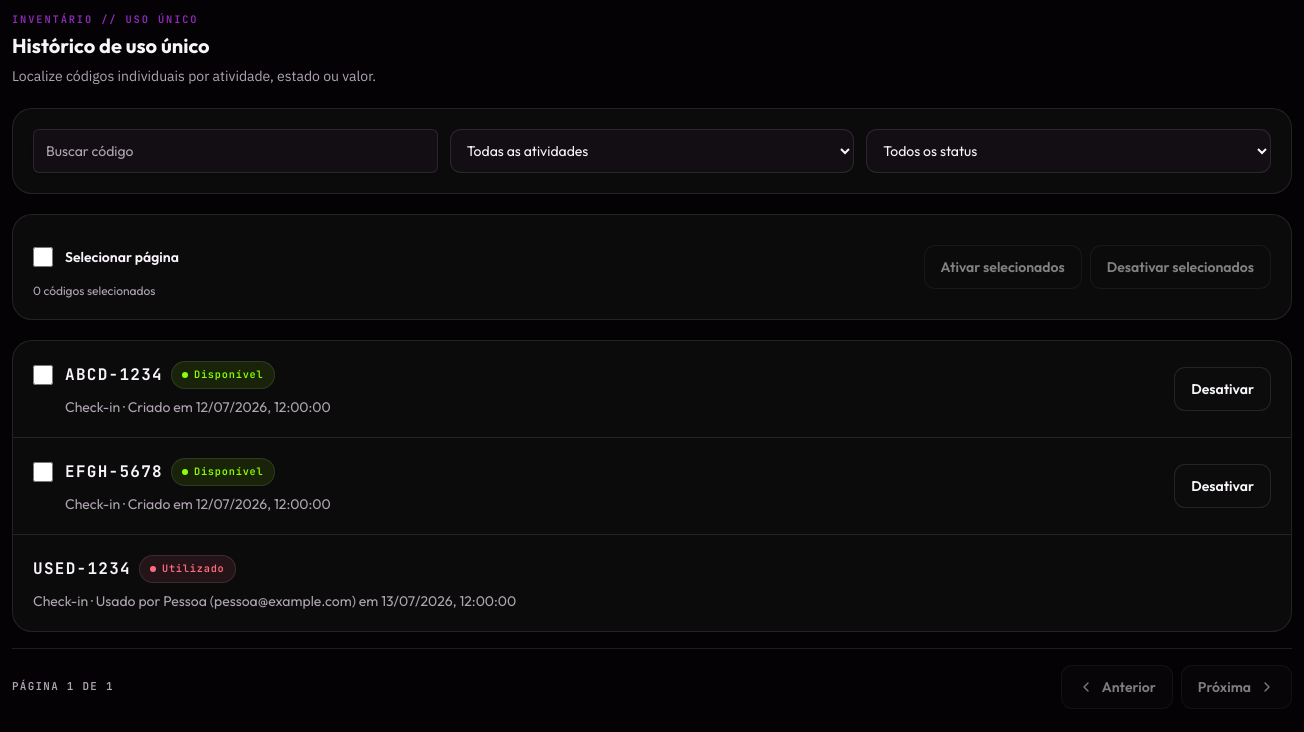
Test: ClaimCodeHistory audited status › seleciona a página sem incluir códigos usados e preserva apenas IDs explícitos
This screenshot has width=1304, height=732.
Click the checkbox named "Selecionar todos os códigos disponíveis desta página": {"x": 43, "y": 257} [33,247,53,267]
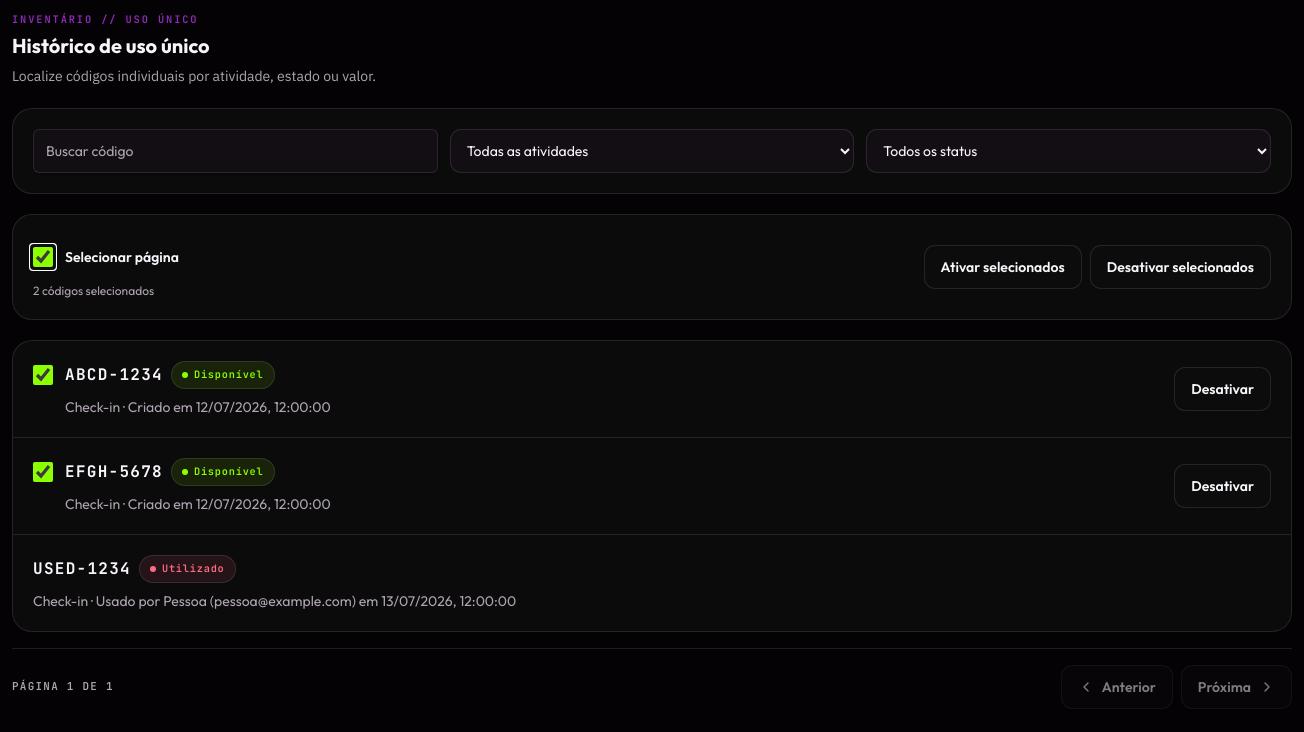
Expected: the text "2 códigos selecionados" is shown, [33,283,154,298]
Expected: the button "Desativar selecionados" is enabled, [1090,245,1271,289]
Expected: the button "Ativar selecionados" is enabled, [924,245,1082,289]
